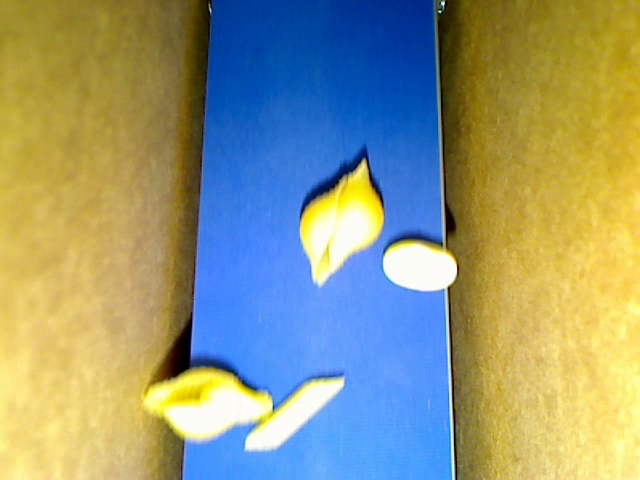penne: (244, 376, 346, 450)
shell: (297, 158, 385, 289), (144, 365, 274, 444)
